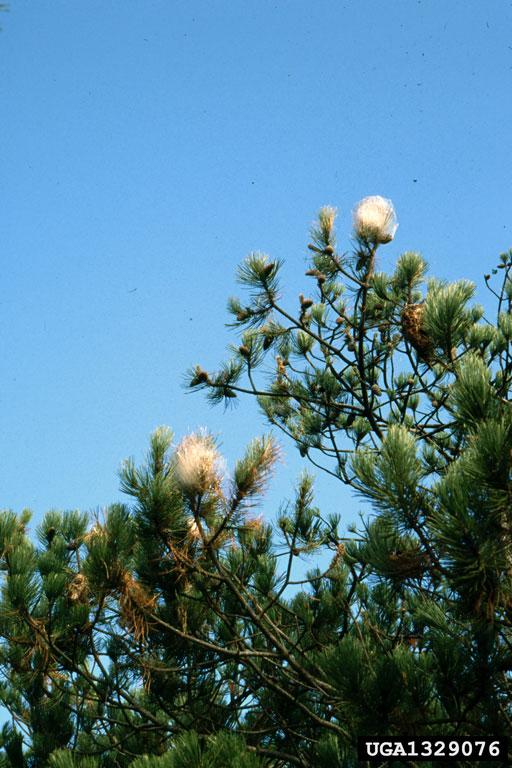thaumatopoea pityocampa jajno gnijezdo: (166, 431, 222, 511), (352, 194, 397, 246)
